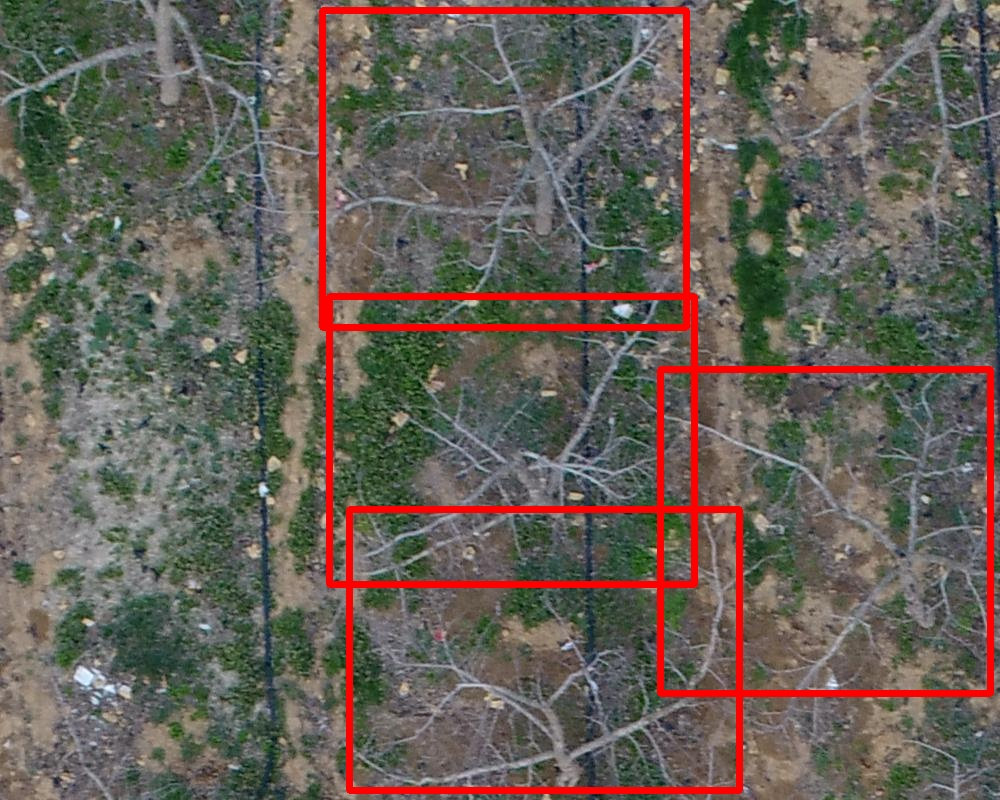apple: (322, 10, 686, 327), (349, 509, 739, 790), (660, 369, 990, 693), (329, 296, 694, 584)
